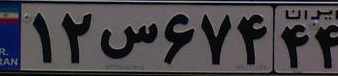character: (97, 14, 160, 62), (234, 7, 272, 70), (198, 8, 236, 70), (58, 8, 96, 69), (160, 7, 197, 69), (28, 6, 57, 68), (277, 22, 312, 70), (312, 22, 338, 71)
